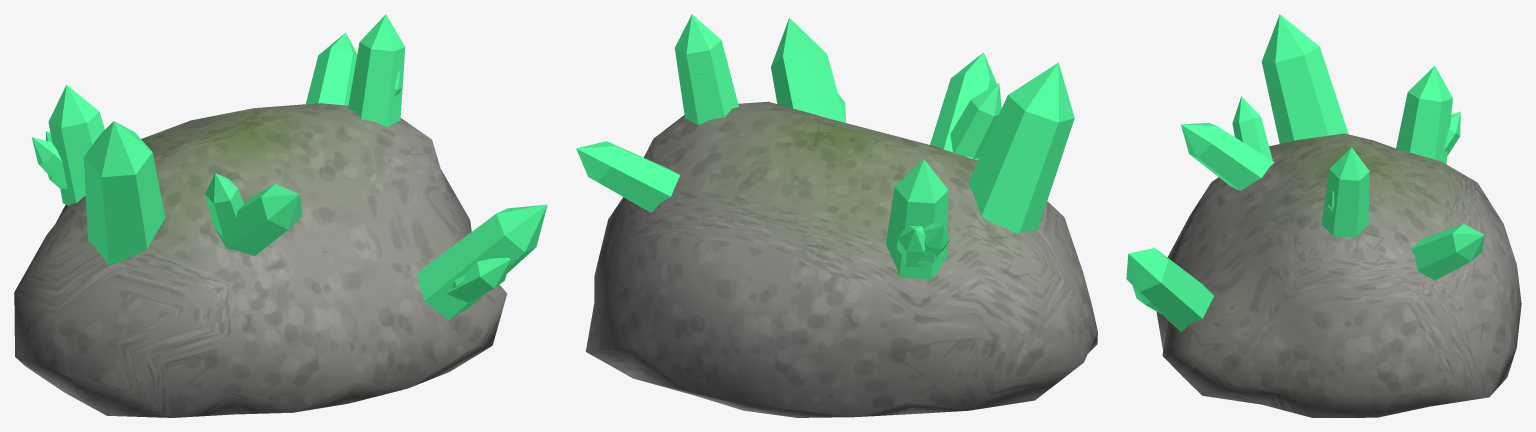
File: ore_emerald_boulder.glb
3 views of the same model, side by side, from view 1: azimuth 30°, elevation 25°; view 2: azimuth 150°, elevation 25°; view 3: azimuth 270°, elevation 25° (orthographic). The views are drawn at different scales.
Parts seen in each view (by area): view 1: ore_emerald_stone, ore_emerald; view 2: ore_emerald_stone, ore_emerald; view 3: ore_emerald_stone, ore_emerald.
Part boxes in pixels (left/top/right/bottom): ore_emerald_stone: left=14, top=103, right=507, bottom=417; ore_emerald: left=31, top=14, right=547, bottom=320; ore_emerald_stone: left=585, top=101, right=1097, bottom=417; ore_emerald: left=576, top=14, right=1074, bottom=279; ore_emerald_stone: left=1156, top=133, right=1521, bottom=417; ore_emerald: left=1126, top=14, right=1484, bottom=331.
Size of the model in its own units: 2.3 by 1.41 by 2.01.
Materials: 2 (1 with a texture image).
